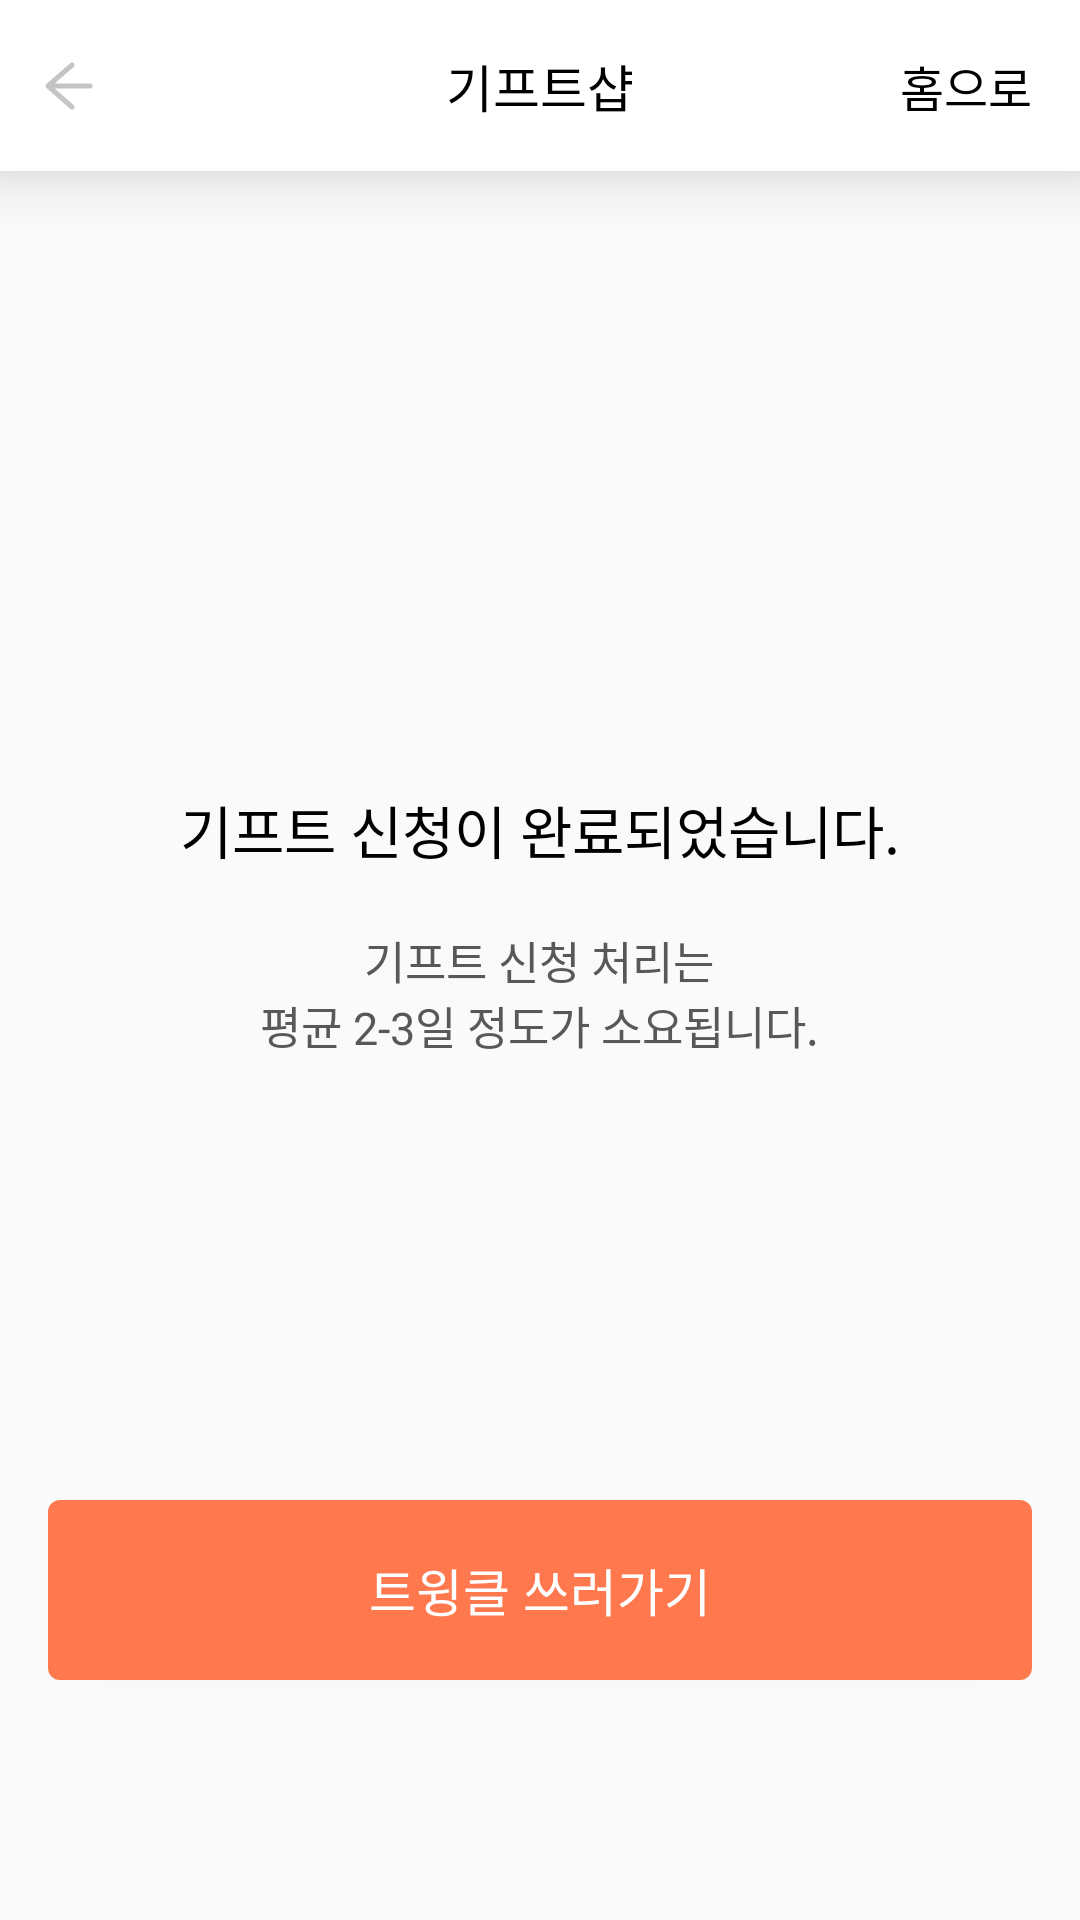

Screen size 1080×1920. Icon name, then its center in pixels as (x=x, y=y):
chevron left: (x=69, y=86)
